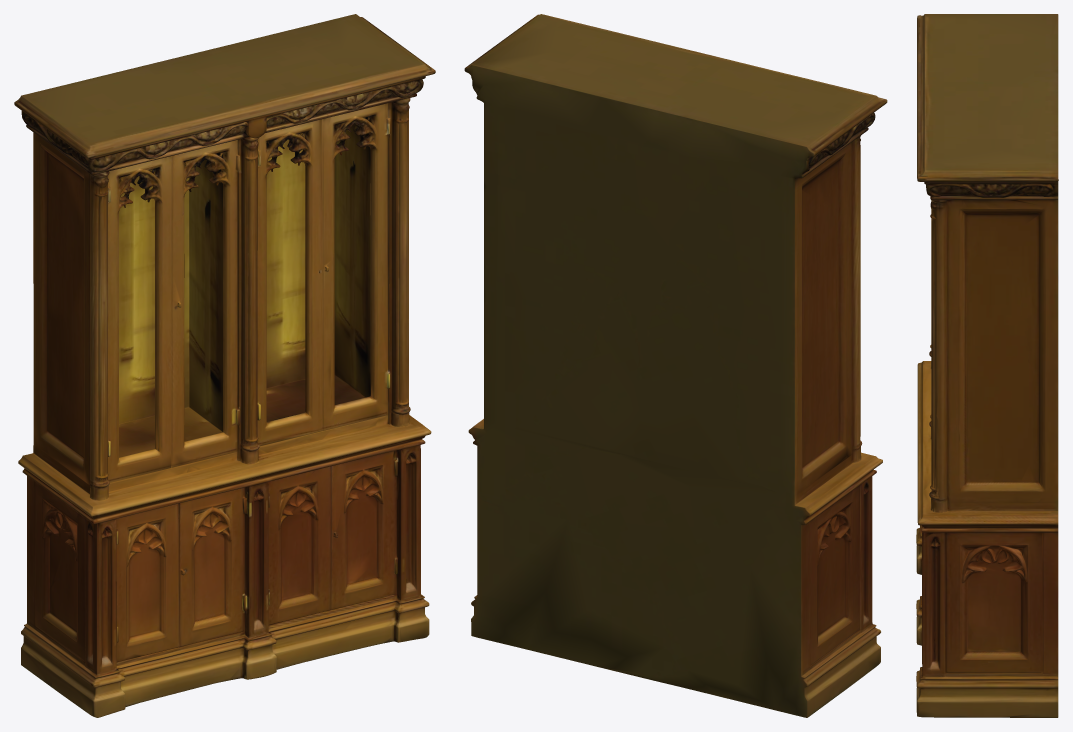
The model's file is m-bookcase-realistic.glb.
3 renders of one model, left to right at view 1: azimuth 30°, elevation 25°; view 2: azimuth 150°, elevation 25°; view 3: azimuth 270°, elevation 25°, orthographic. The views are drawn at different scales.
Visible parts, largest first — view 1: node_0; view 2: node_0; view 3: node_0.
Boxes of the visible parts, x1,y1,x2,y2 form: node_0: (14, 14, 435, 717); node_0: (464, 14, 887, 717); node_0: (916, 14, 1058, 717).
Bounding box in the file's own units: 1.52 × 2.38 × 0.559.
1 material, 1 textured.
